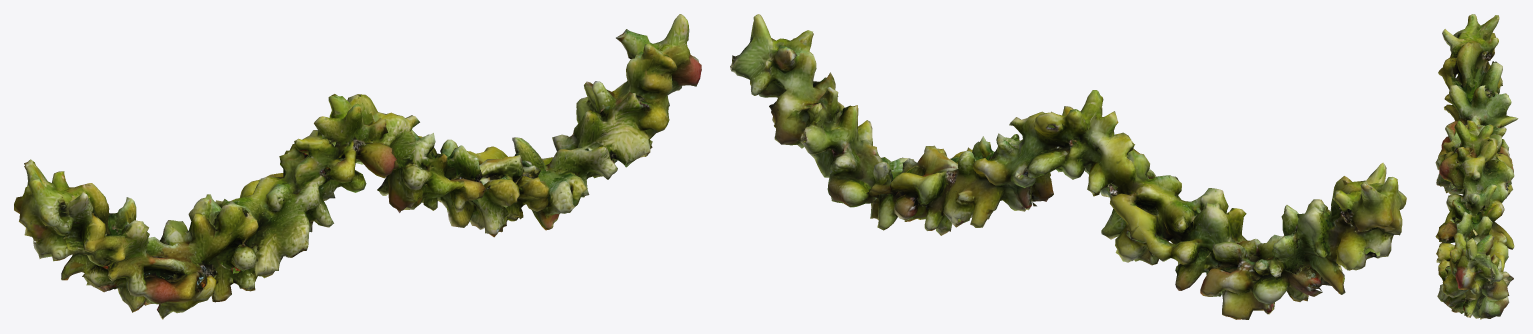
File: Meshy_AI_Festive_Holiday_Garla_0102103733_texture.fbx
3 renders of one model, left to right at view 1: azimuth 30°, elevation 25°; view 2: azimuth 150°, elevation 25°; view 3: azimuth 270°, elevation 25°, orthographic. The views are drawn at different scales.
Visible parts, largest first — view 1: Mesh0; view 2: Mesh0; view 3: Mesh0.
Boxes of the visible parts, x1,y1,x2,y2 form: Mesh0: (14, 14, 701, 319); Mesh0: (730, 14, 1406, 319); Mesh0: (1435, 14, 1518, 319).
Size of the model in its own units: 189 by 48.22 by 27.72.
1 material, 1 textured.
